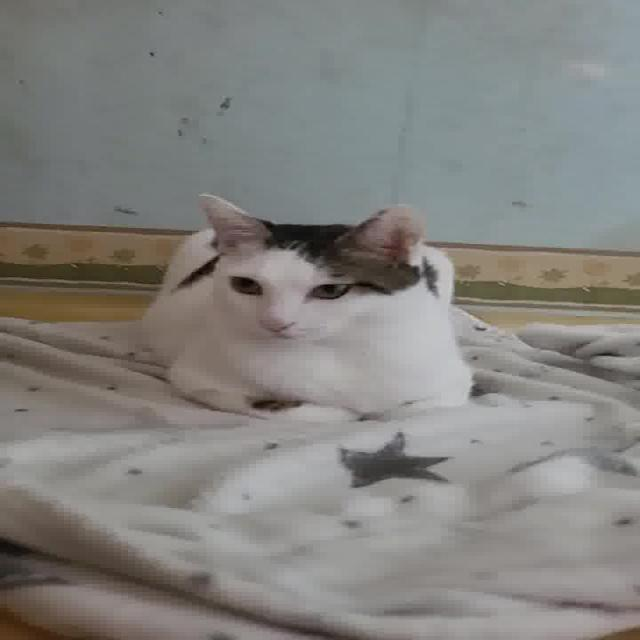cat: (150, 186, 484, 429)
